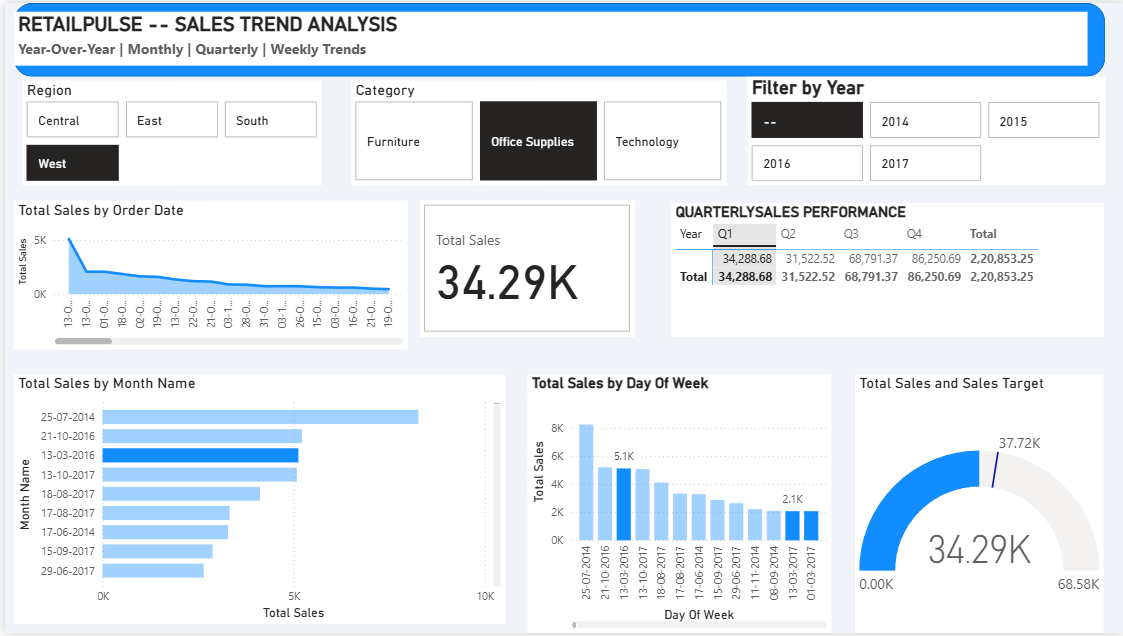

The page's visual inventory and layout, read from the dashboard file:
{"tool":"powerbi","page":{"name":"Sales Trend Analysis","canvas":[1280,720],"ordinal":1},"visuals":[{"type":"shape","box":[10,0,1247.1,84.3],"z":0},{"type":"textbox","title":"RETAILPULSE -- SALES TREND ANALYSIS","box":[10,10,1227.1,61.4],"z":1000},{"type":"advancedSlicerVisual","title":"Filter by Year","fields":{"Values":["Date Table.Year"]},"box":[848.6,84.3,408.6,124.3],"z":2000},{"type":"advancedSlicerVisual","fields":{"Values":["Sales Measures.Category"]},"box":[395.7,88.6,428.6,120],"z":3000},{"type":"advancedSlicerVisual","fields":{"Values":["Sales Measures.Region"]},"box":[20,88.6,341.4,120],"z":4000},{"type":"areaChart","fields":{"Y":["Sales Measures.Total Sales"],"Category":["Sales Measures.Order Date"]},"box":[10,225.7,450,170],"z":5000},{"type":"pivotTable","title":"QUARTERLYSALES PERFORMANCE","fields":{"Rows":["Date Table.Year"],"Values":["Sales Measures.Total Sales"],"Columns":["Sales Measures.Quarter"]},"box":[761.4,228.6,494.3,152.9],"z":6000},{"type":"cardVisual","fields":{"Data":["Sales Measures.Total Sales"]},"box":[474.3,225.7,245.7,155.7],"z":7000},{"type":"clusteredColumnChart","fields":{"Y":["Sales Measures.Total Sales"],"Category":["Sales Measures.Day Of Week"]},"box":[597.1,424.3,347.1,295.7],"z":8000},{"type":"clusteredBarChart","fields":{"Category":["Sales Measures.Month Name"],"Y":["Sales Measures.Total Sales"]},"box":[10,424.3,561.4,285.7],"z":9000},{"type":"gauge","fields":{"Y":["Sales Measures.Total Sales"],"TargetValue":["Sales Measures.Sales Target"]},"box":[971.4,424.3,284.3,295.7],"z":13000}]}

Visuals, with their boxes in screenshot pixels (x1, y1, x2, y2), scaled from the page's 1280x720 canvas onto the 1123x636 screenshot:
shape: pyautogui.locateOnScreen(9, 0, 1103, 74)
"RETAILPULSE -- SALES TREND ANALYSIS" textbox: pyautogui.locateOnScreen(9, 9, 1085, 63)
"Filter by Year" advancedSlicerVisual: pyautogui.locateOnScreen(745, 74, 1103, 184)
advancedSlicerVisual - Sales Measures.Category: pyautogui.locateOnScreen(347, 78, 723, 184)
advancedSlicerVisual - Sales Measures.Region: pyautogui.locateOnScreen(18, 78, 317, 184)
areaChart - Sales Measures.Total Sales x Sales Measures.Order Date: pyautogui.locateOnScreen(9, 199, 404, 350)
"QUARTERLYSALES PERFORMANCE" pivotTable: pyautogui.locateOnScreen(668, 202, 1102, 337)
cardVisual - Sales Measures.Total Sales: pyautogui.locateOnScreen(416, 199, 632, 337)
clusteredColumnChart - Sales Measures.Total Sales x Sales Measures.Day Of Week: pyautogui.locateOnScreen(524, 375, 828, 635)
clusteredBarChart - Sales Measures.Month Name x Sales Measures.Total Sales: pyautogui.locateOnScreen(9, 375, 501, 627)
gauge - Sales Measures.Total Sales x Sales Measures.Sales Target: pyautogui.locateOnScreen(852, 375, 1102, 635)
